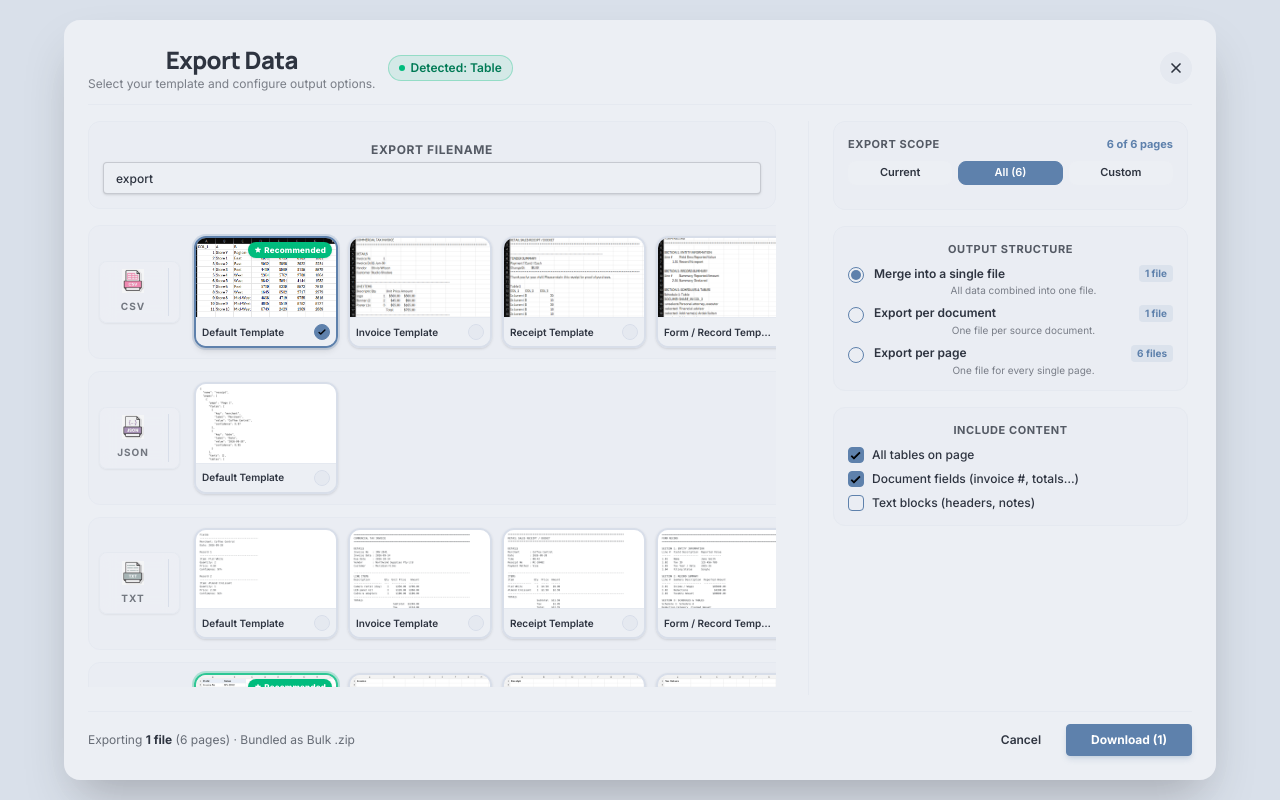
Scenario: ExportModal Component › shows bulk export confirmation when more than 5 pages or files are selected
Click the button "Download (1)" at coordinates (1129, 740), box x1=1066 y1=724 x2=1192 y2=756
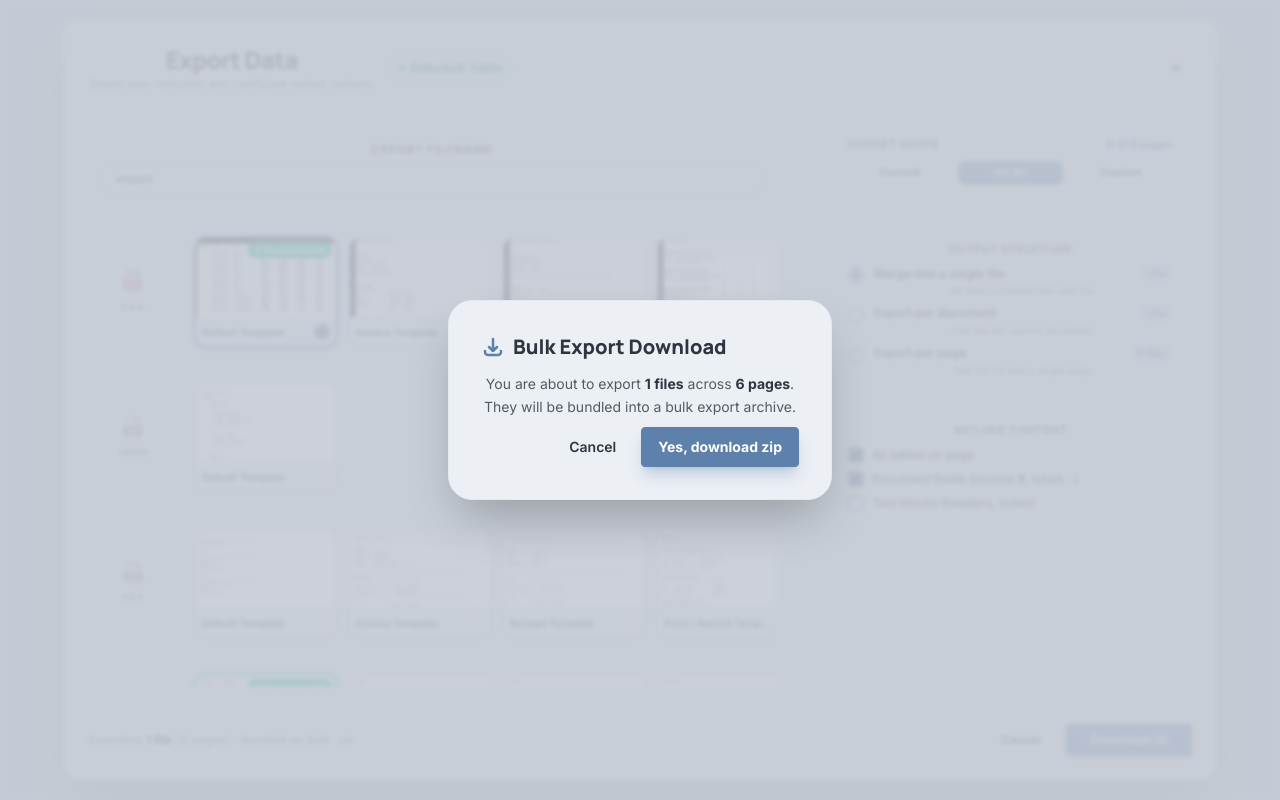
Expected: the heading "Bulk Export Download" is shown, x1=481 y1=333 x2=727 y2=360
Expected: the button "Yes, download zip" is shown, x1=641 y1=427 x2=799 y2=467
